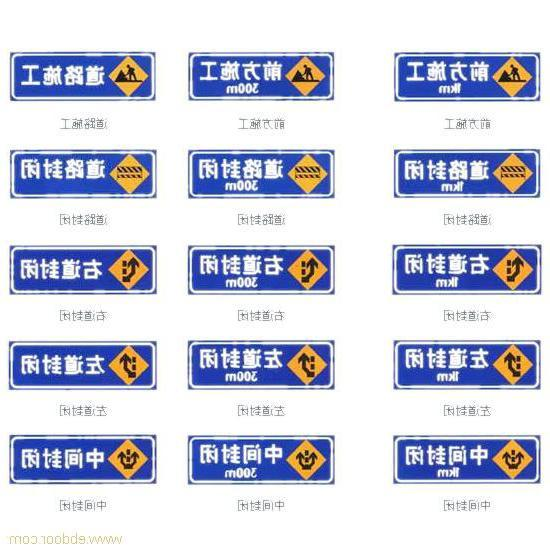sign: (189, 50, 333, 100), (189, 244, 333, 294), (394, 341, 537, 391), (10, 245, 156, 293), (188, 436, 334, 484), (10, 341, 155, 389), (188, 340, 335, 387), (394, 149, 540, 196), (395, 245, 540, 292), (396, 54, 540, 101), (395, 437, 539, 484), (187, 150, 334, 196), (11, 150, 156, 196), (10, 55, 156, 99), (10, 438, 155, 482)
